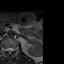CCS_normal: (8, 46, 10, 55)
LFS_normal: (13, 46, 15, 52)
LLS_normal: (10, 46, 13, 53)
RFS_normal: (4, 46, 6, 53)
RLS_normal: (6, 46, 8, 53)
